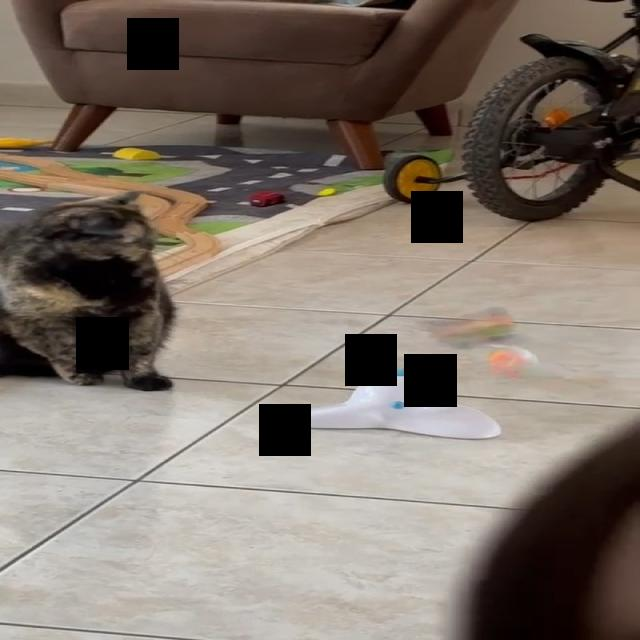authorized: (0, 189, 177, 391)
